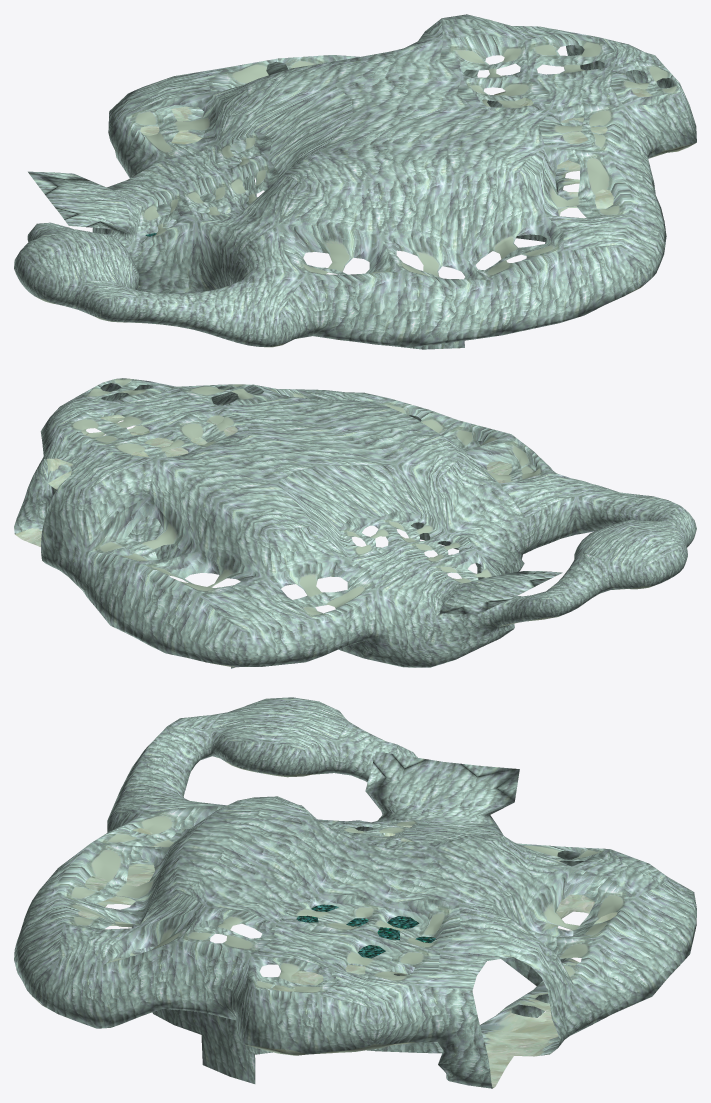
Rendered from TROLLHOLE02_PS-SECRETCAVE.obj.
3 views of the same model, one above another, from view 1: azimuth 30°, elevation 25°; view 2: azimuth 150°, elevation 25°; view 3: azimuth 270°, elevation 25° (orthographic). The views are drawn at different scales.
Visible parts, largest first — view 1: Ps-SecretCave; view 2: Ps-SecretCave; view 3: Ps-SecretCave.
Part boxes in pixels (<box>): Ps-SecretCave: <box>14,14,696,349</box>; Ps-SecretCave: <box>14,378,696,668</box>; Ps-SecretCave: <box>14,697,696,1088</box>.
Bounding box in the file's own units: 8486 × 2006 × 7189.
